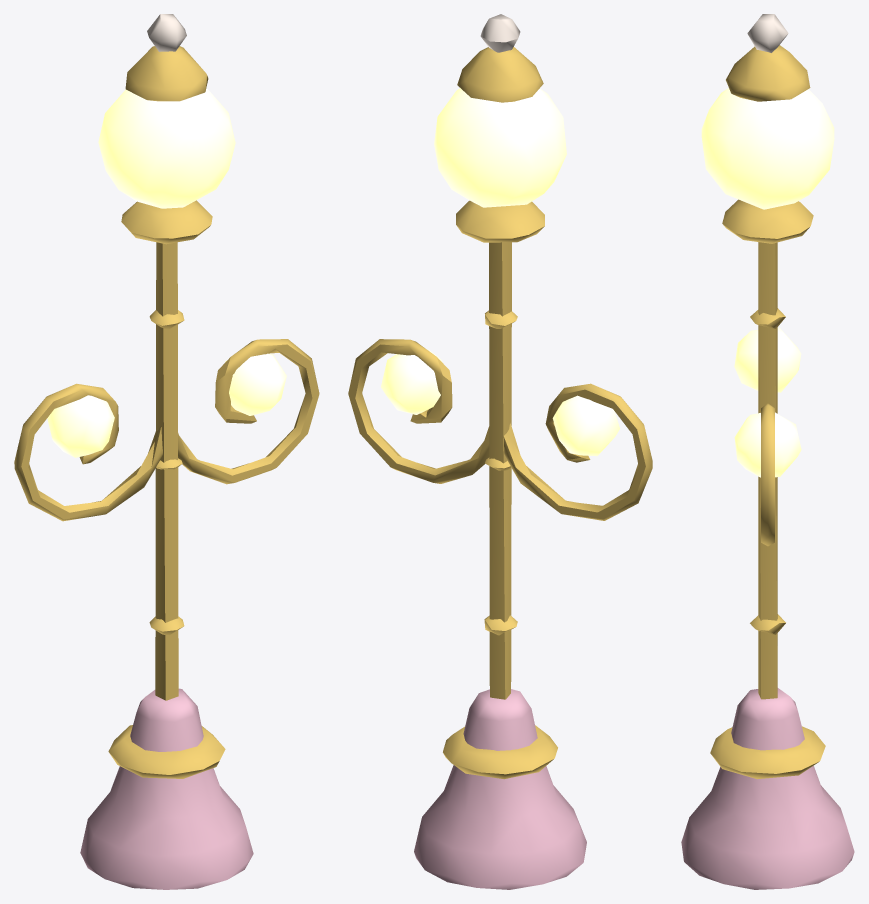
Rendered from lamp_post.glb.
3 renders of one model, left to right at view 1: azimuth 30°, elevation 25°; view 2: azimuth 150°, elevation 25°; view 3: azimuth 270°, elevation 25°, orthographic.
Visible parts, largest first — view 1: lamp_post; view 2: lamp_post; view 3: lamp_post.
Boxes of the visible parts, box(x1,y1,x2,y2) form: lamp_post: box(14, 14, 319, 889); lamp_post: box(348, 14, 652, 889); lamp_post: box(681, 14, 854, 889).
Bounding box in the file's own units: 1.77 × 4.68 × 0.8731.
